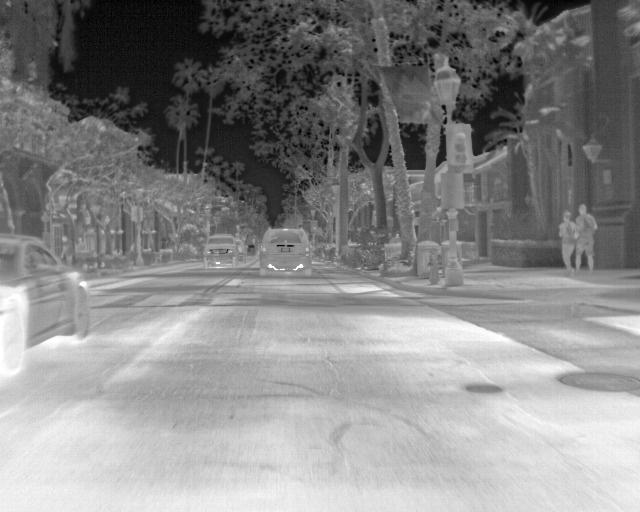bicycle: (2, 232, 97, 377), (257, 224, 316, 278), (201, 235, 239, 269), (236, 236, 249, 258)
empty: (573, 202, 600, 272), (557, 208, 578, 278)
